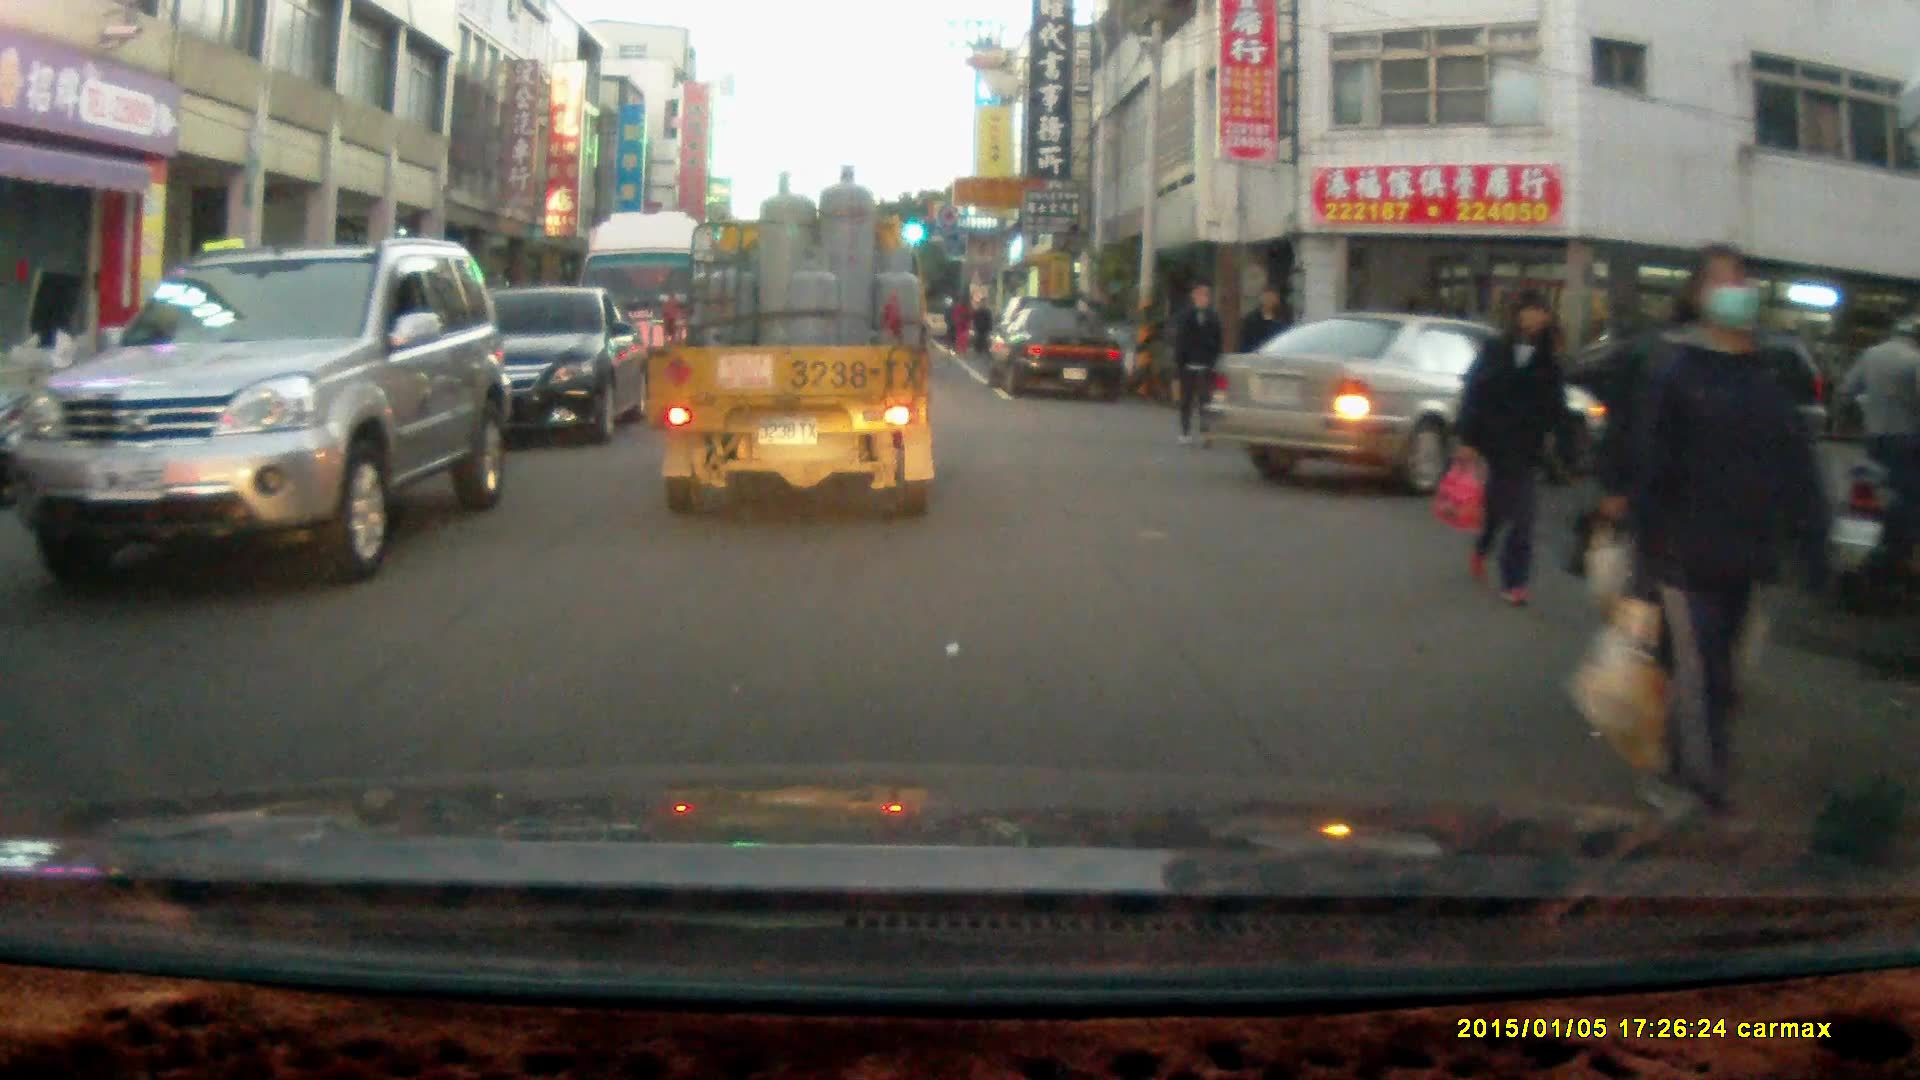pedestrian: (1624, 239, 1831, 824), (1454, 292, 1576, 614), (1171, 279, 1228, 454), (1235, 282, 1293, 439), (968, 294, 995, 361)
rider: (1825, 315, 1917, 617)
vehicle: (5, 233, 512, 587), (647, 160, 935, 522), (1213, 310, 1618, 502), (413, 282, 644, 443), (575, 210, 742, 404), (984, 302, 1129, 399)
